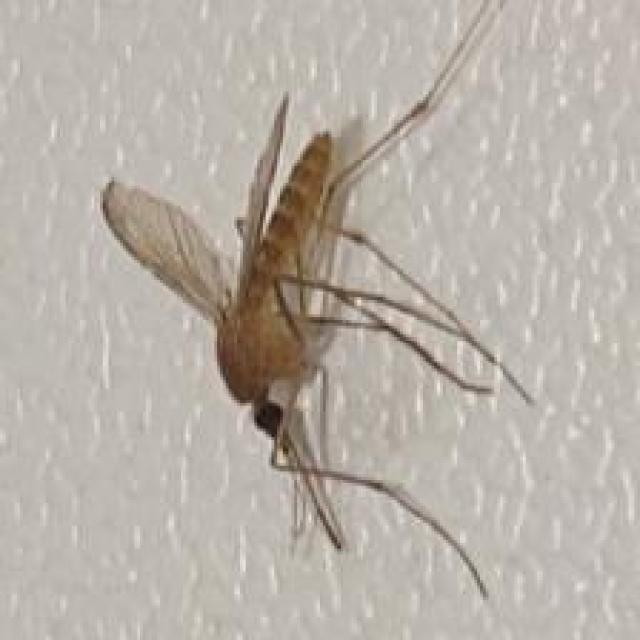Culex: (99, 1, 542, 602)
